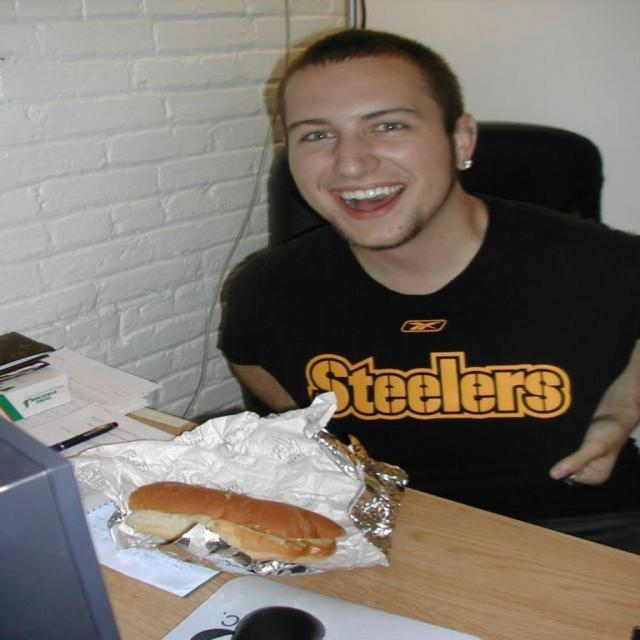Hot dog: (111, 467, 365, 561)
